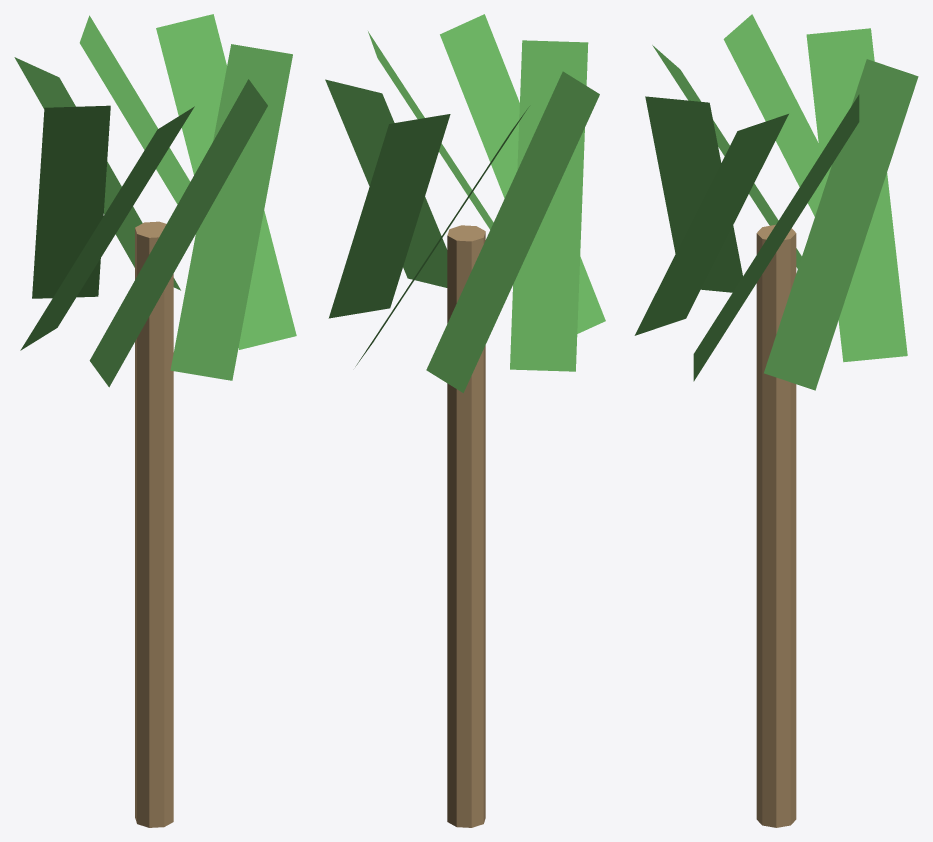
File: palm_1.glb
3 views of the same model, side by side, from view 1: azimuth 30°, elevation 25°; view 2: azimuth 150°, elevation 25°; view 3: azimuth 270°, elevation 25° (orthographic).
Visible parts, largest first — view 1: palm_1_trunk, palm_1_frond_6, palm_1_frond_3, palm_1_frond_0, palm_1_frond_5, palm_1_frond_4, palm_1_frond_1, palm_1_frond_2; view 2: palm_1_trunk, palm_1_frond_4, palm_1_frond_3, palm_1_frond_1, palm_1_frond_5, palm_1_frond_0, palm_1_frond_6, palm_1_frond_2; view 3: palm_1_trunk, palm_1_frond_1, palm_1_frond_2, palm_1_frond_6, palm_1_frond_5, palm_1_frond_3, palm_1_frond_0, palm_1_frond_4.
Boxes of the visible parts, x1=… form: palm_1_trunk: x1=135, y1=221, x2=173, y2=827; palm_1_frond_6: x1=170, y1=44, x2=292, y2=380; palm_1_frond_3: x1=32, y1=105, x2=110, y2=298; palm_1_frond_0: x1=156, y1=14, x2=296, y2=349; palm_1_frond_5: x1=89, y1=79, x2=267, y2=387; palm_1_frond_4: x1=20, y1=106, x2=194, y2=350; palm_1_frond_1: x1=79, y1=15, x2=190, y2=204; palm_1_frond_2: x1=14, y1=57, x2=180, y2=290; palm_1_trunk: x1=447, y1=225, x2=485, y2=827; palm_1_frond_4: x1=510, y1=40, x2=588, y2=371; palm_1_frond_3: x1=426, y1=71, x2=599, y2=392; palm_1_frond_1: x1=328, y1=114, x2=450, y2=318; palm_1_frond_5: x1=440, y1=14, x2=605, y2=333; palm_1_frond_0: x1=325, y1=79, x2=447, y2=287; palm_1_frond_6: x1=368, y1=31, x2=493, y2=229; palm_1_frond_2: x1=355, y1=106, x2=529, y2=366; palm_1_trunk: x1=756, y1=224, x2=796, y2=827; palm_1_frond_1: x1=764, y1=59, x2=918, y2=390; palm_1_frond_2: x1=806, y1=28, x2=907, y2=362; palm_1_frond_6: x1=634, y1=114, x2=788, y2=335; palm_1_frond_5: x1=645, y1=96, x2=742, y2=292; palm_1_frond_3: x1=723, y1=14, x2=823, y2=216; palm_1_frond_0: x1=693, y1=94, x2=859, y2=381; palm_1_frond_4: x1=652, y1=45, x2=801, y2=268.
Bounding box in the file's own units: 1.67 × 4.98 × 1.72.
